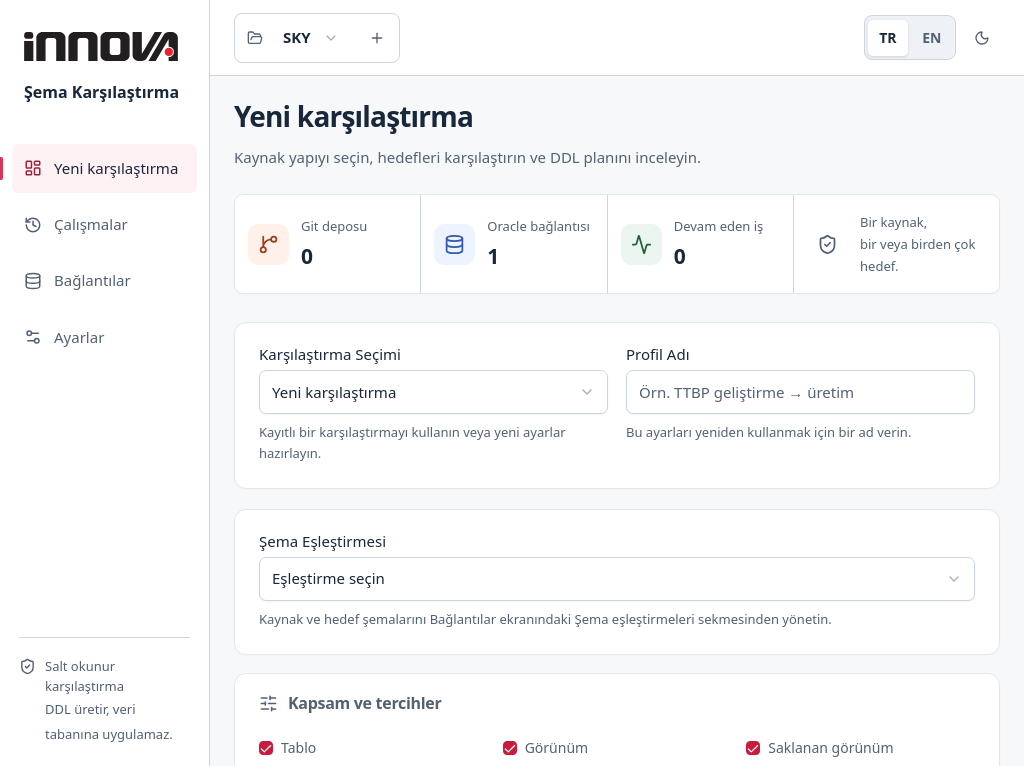
it: updates the shared screens and connection form without changing saved names or credentials
Check: the button "Bağlantılar" is shown, box [12,256,197,306]
Click the button with aria-label "English".
click(932, 38)  # box [912,20,952,56]
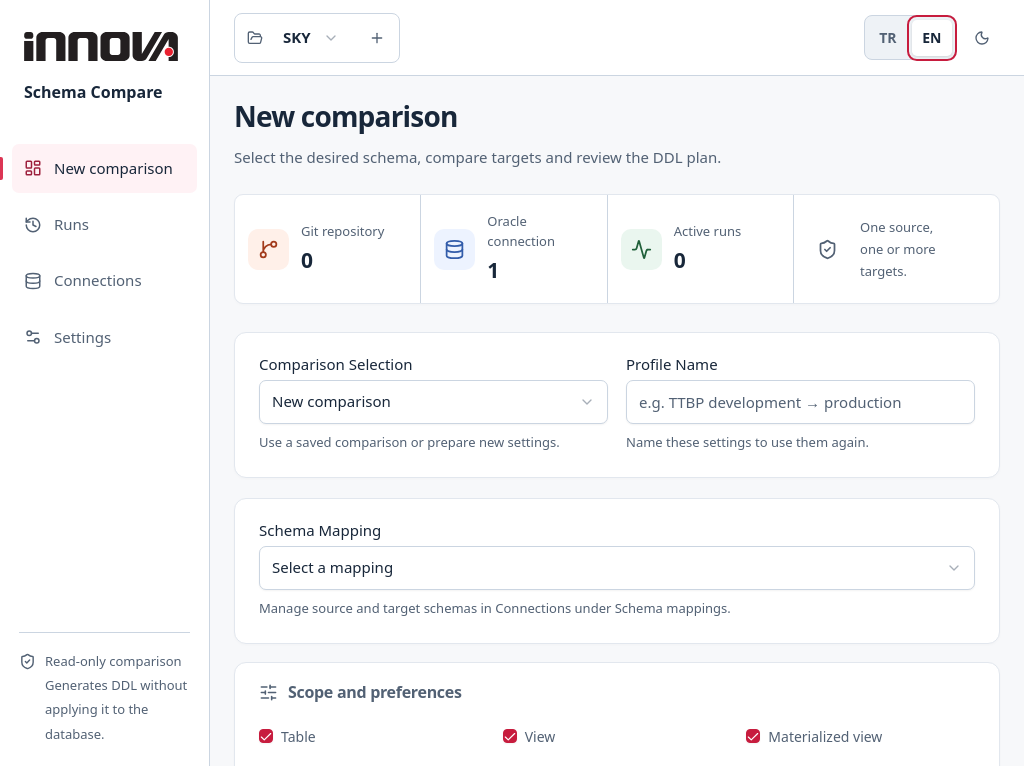
Click the button named "Dark theme".
click(982, 38)  # box [964,16,1000,60]
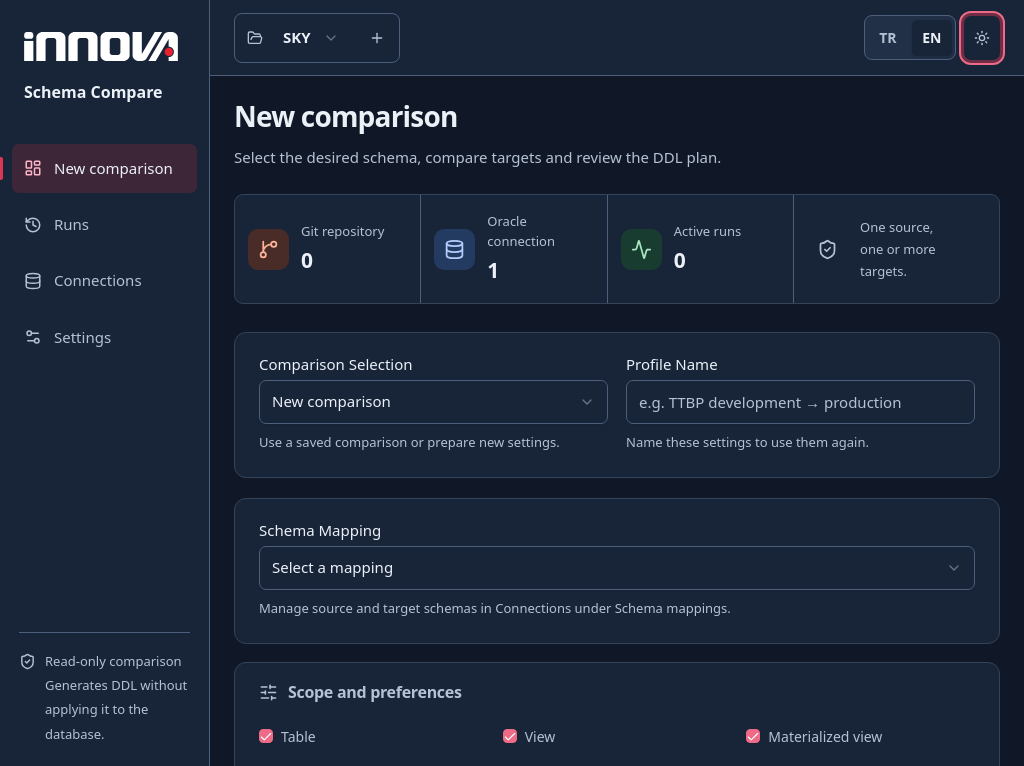
Click the button "Connections".
click(104, 281)  # box [12,256,197,306]
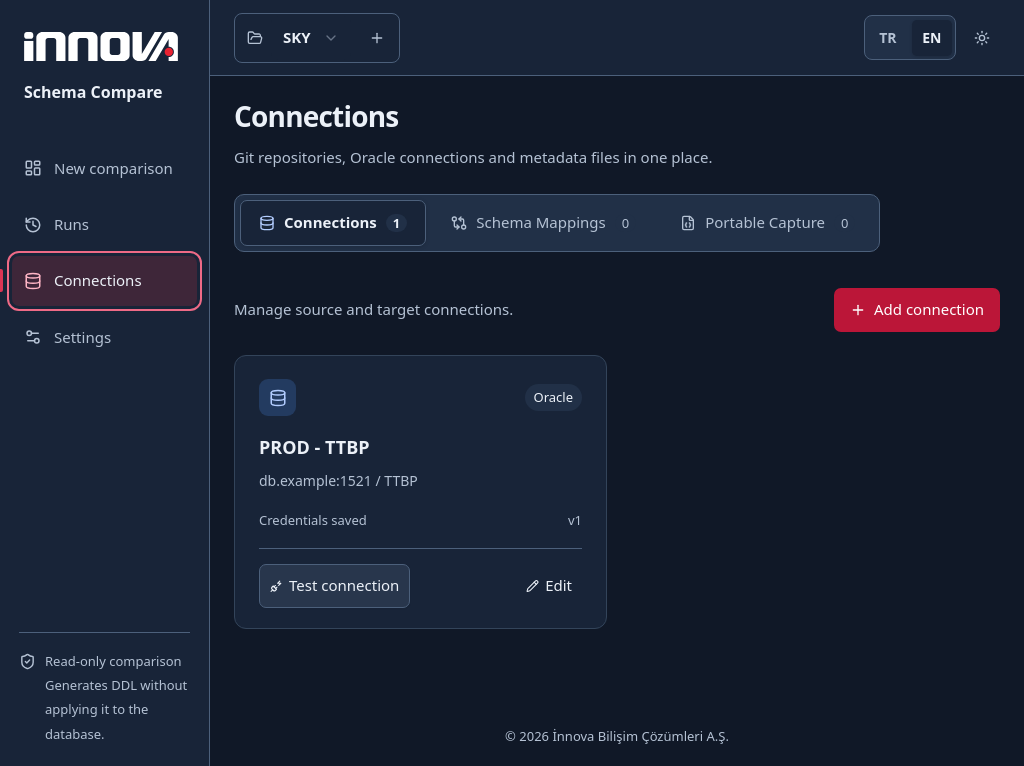
Check: the heading "PROD - TTBP" is shown, box [259,435,370,459]
Check: the tab "Schema Mappings 0" is shown, box [432,200,655,246]
Click the button "Edit".
click(549, 586)  # box [516,564,582,608]
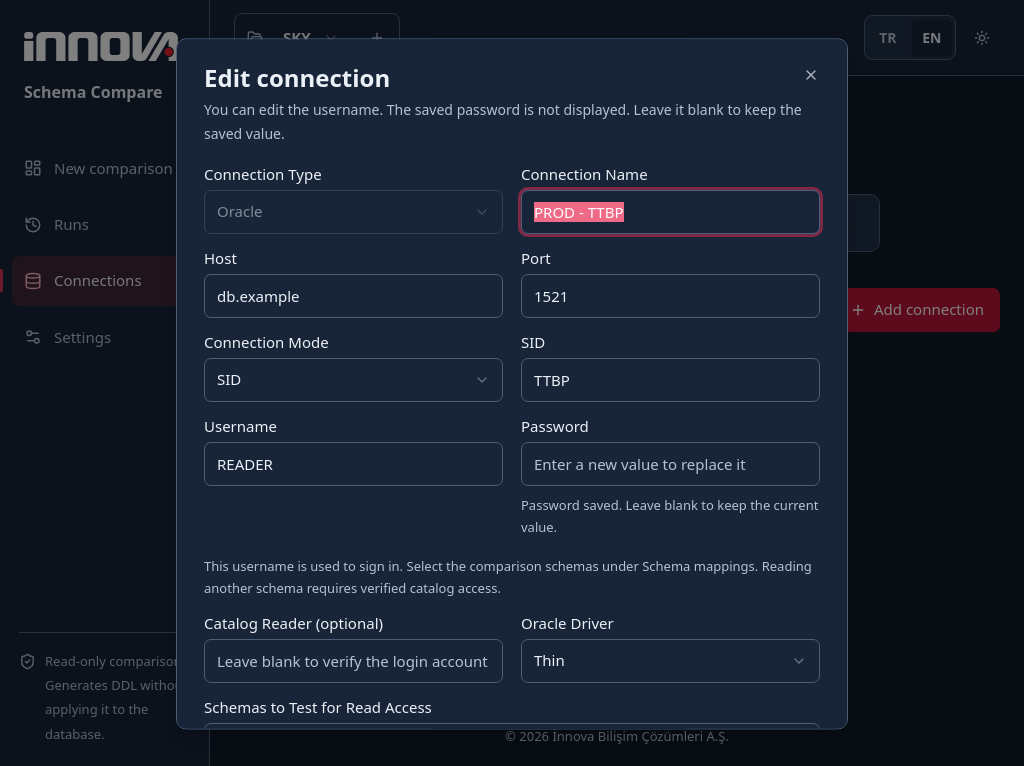
Check: the field showing "READER" is shown, box [204,442,503,486]
Check: the password field labelled "Password" is empty, box [521,442,820,486]
Check: the field labelled "Connection Name" holds "PROD - TTBP", box [521,190,820,234]
